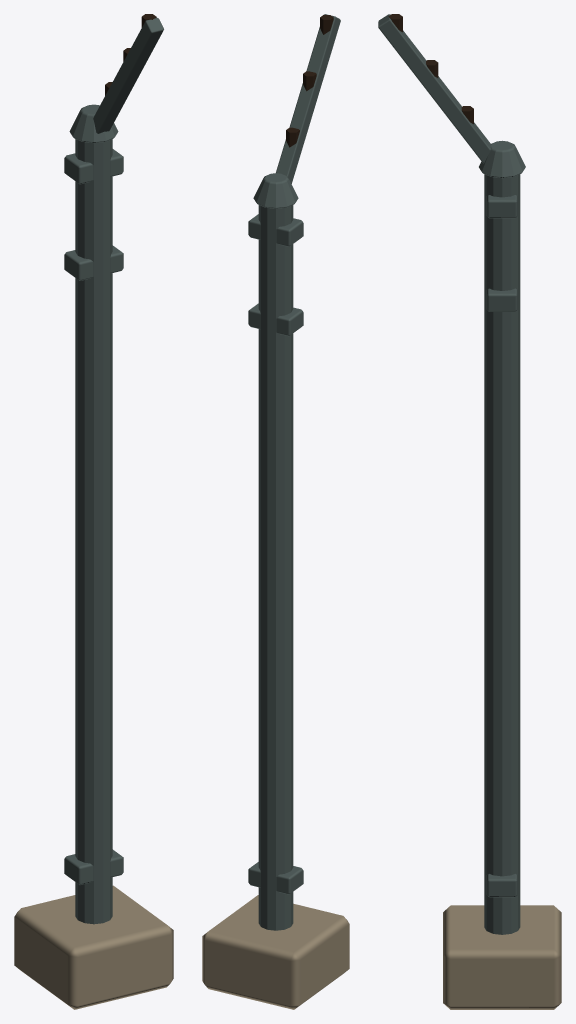
File: FencePost.glb
3 views of the same model, side by side, from view 1: azimuth 30°, elevation 25°; view 2: azimuth 150°, elevation 25°; view 3: azimuth 270°, elevation 25° (orthographic). The views are drawn at different scales.
Visible parts, largest first — view 1: FencePost.001; view 2: FencePost.001; view 3: FencePost.001.
Boxes of the visible parts, x1=… form: FencePost.001: x1=14, y1=14, x2=173, y2=1009; FencePost.001: x1=202, y1=14, x2=349, y2=1009; FencePost.001: x1=378, y1=14, x2=561, y2=1009.
Size of the model in its own units: 0.46 by 4.15 by 0.71.
